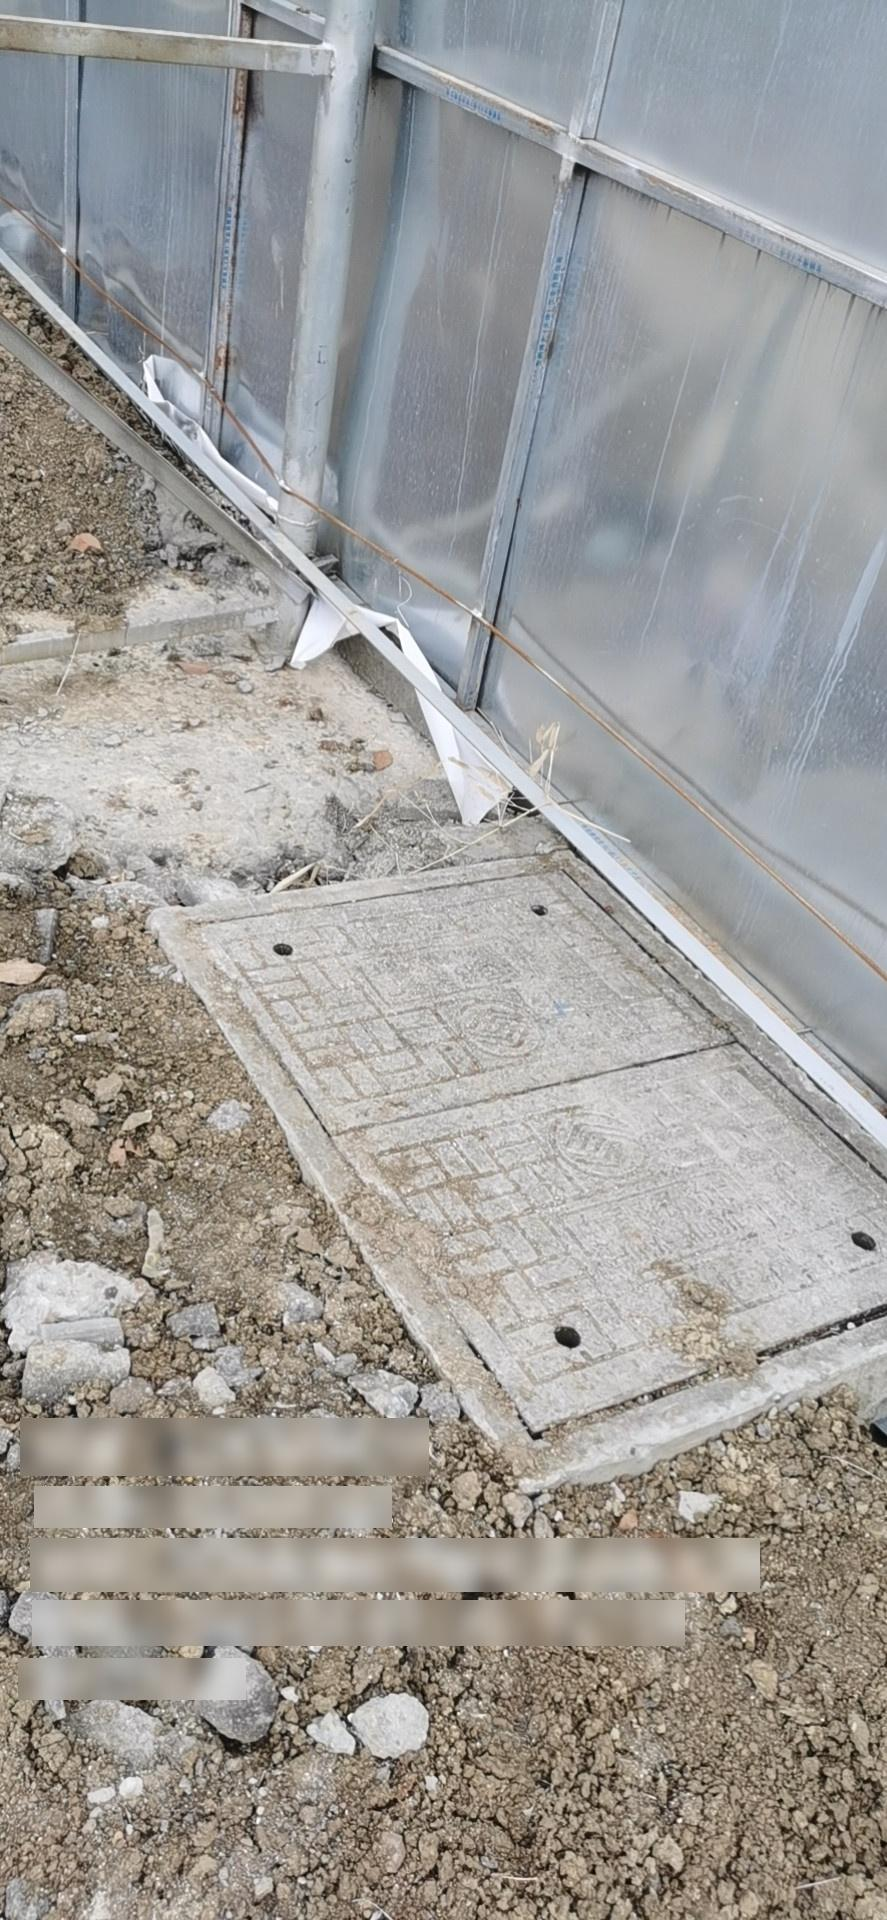wellcover: (168, 818, 887, 1510)
